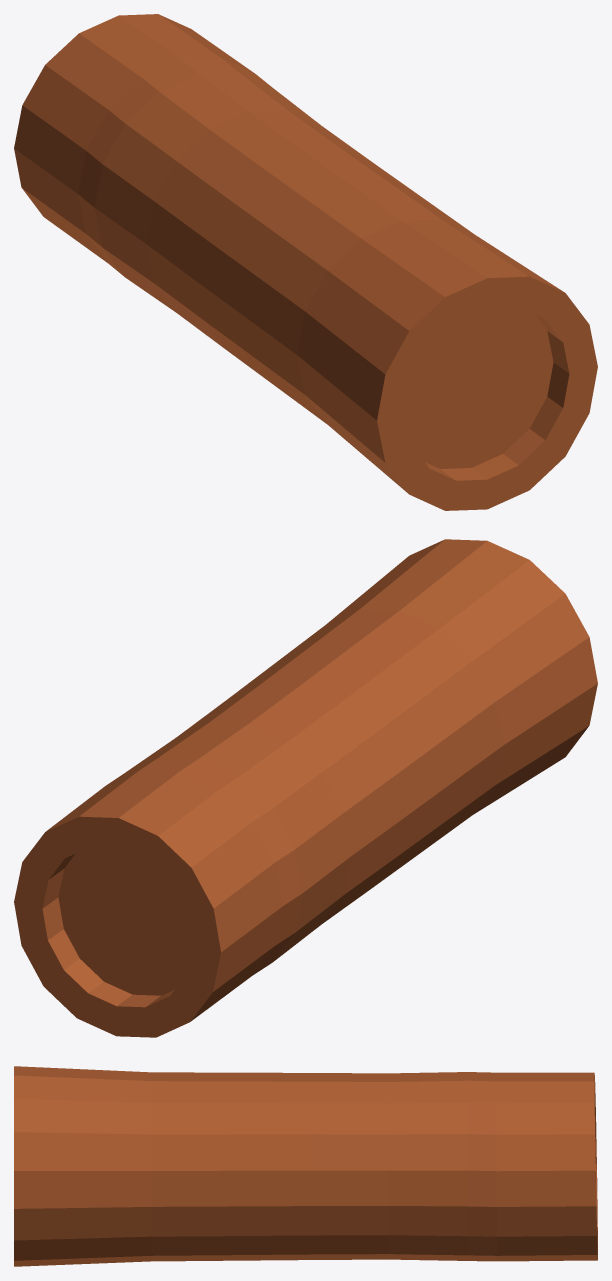
Rendered from wood.fbx.
The picture shows the model from 3 angles, top to bottom: view 1: azimuth 30°, elevation 25°; view 2: azimuth 150°, elevation 25°; view 3: azimuth 270°, elevation 25°; orthographic projection. The views are drawn at different scales.
Visible parts, largest first — view 1: 柱体.014; view 2: 柱体.014; view 3: 柱体.014.
Part boxes in pixels (x1=…): 柱体.014: x1=14, y1=14, x2=597, y2=510; 柱体.014: x1=14, y1=539, x2=597, y2=1037; 柱体.014: x1=14, y1=1066, x2=597, y2=1266.
Size of the model in its own units: 780 by 268 by 268.
